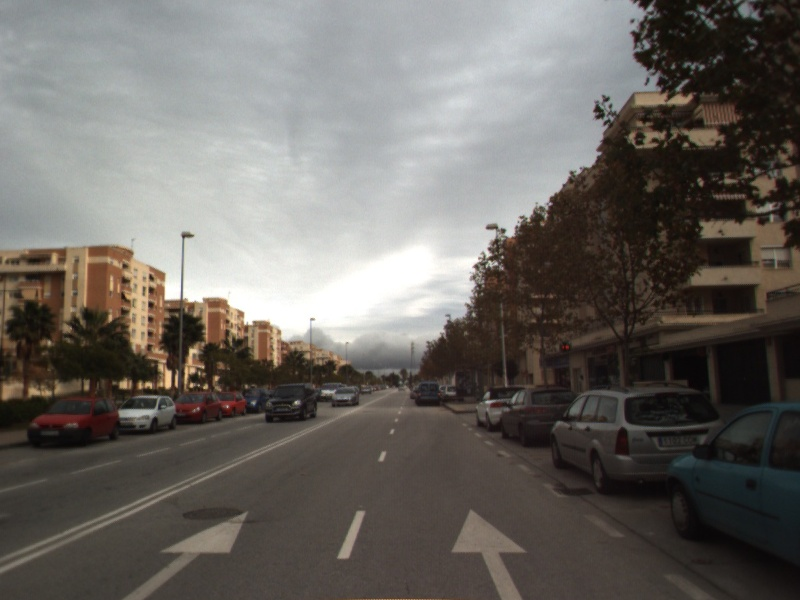STRAIGHT: (118, 509, 251, 600), (448, 506, 531, 600)
